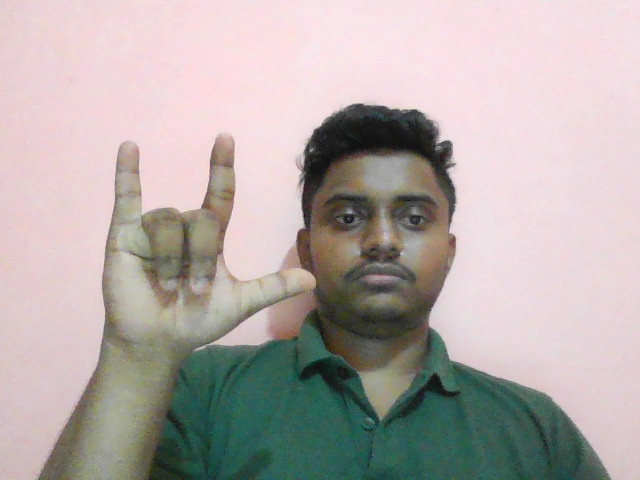I Love You: (92, 127, 323, 367)
